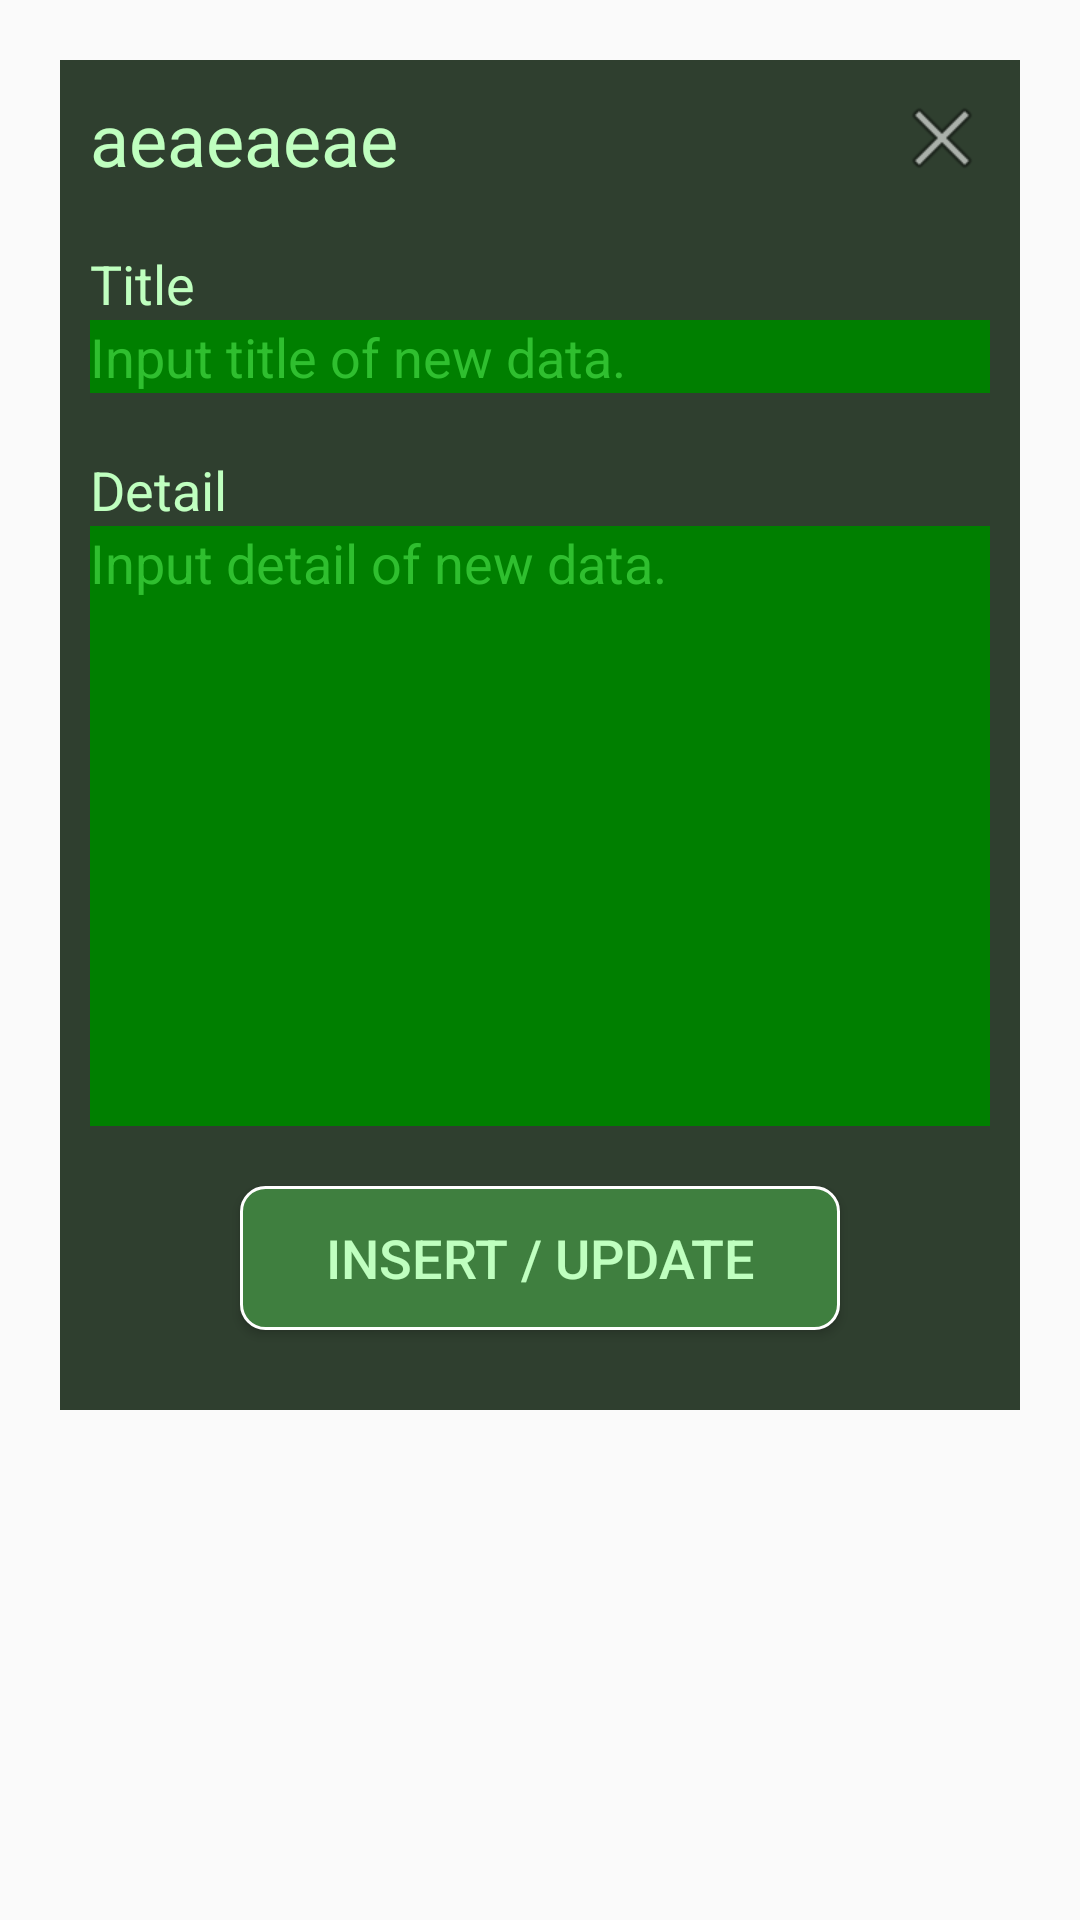

Named icons in this screenshot (1080 × 1920) and their bounding boxes, (x1, y1, x2, y2):
close clear cancel: (914, 110, 970, 166)
